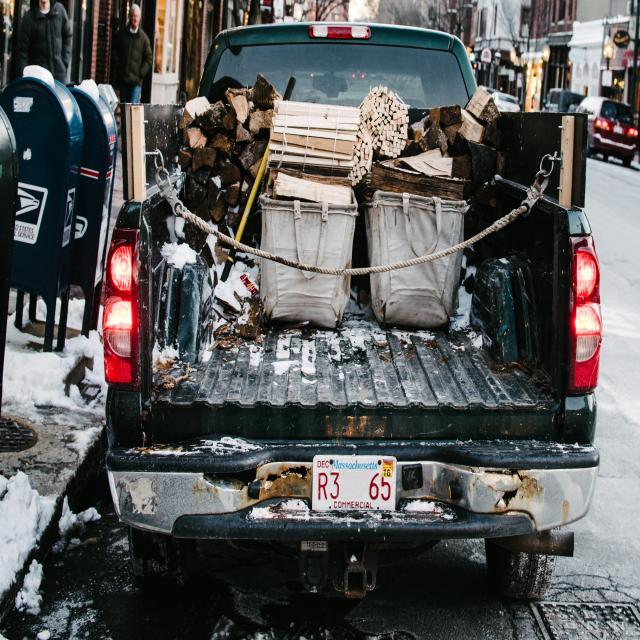trash: (275, 207, 347, 325), (395, 218, 444, 312)
